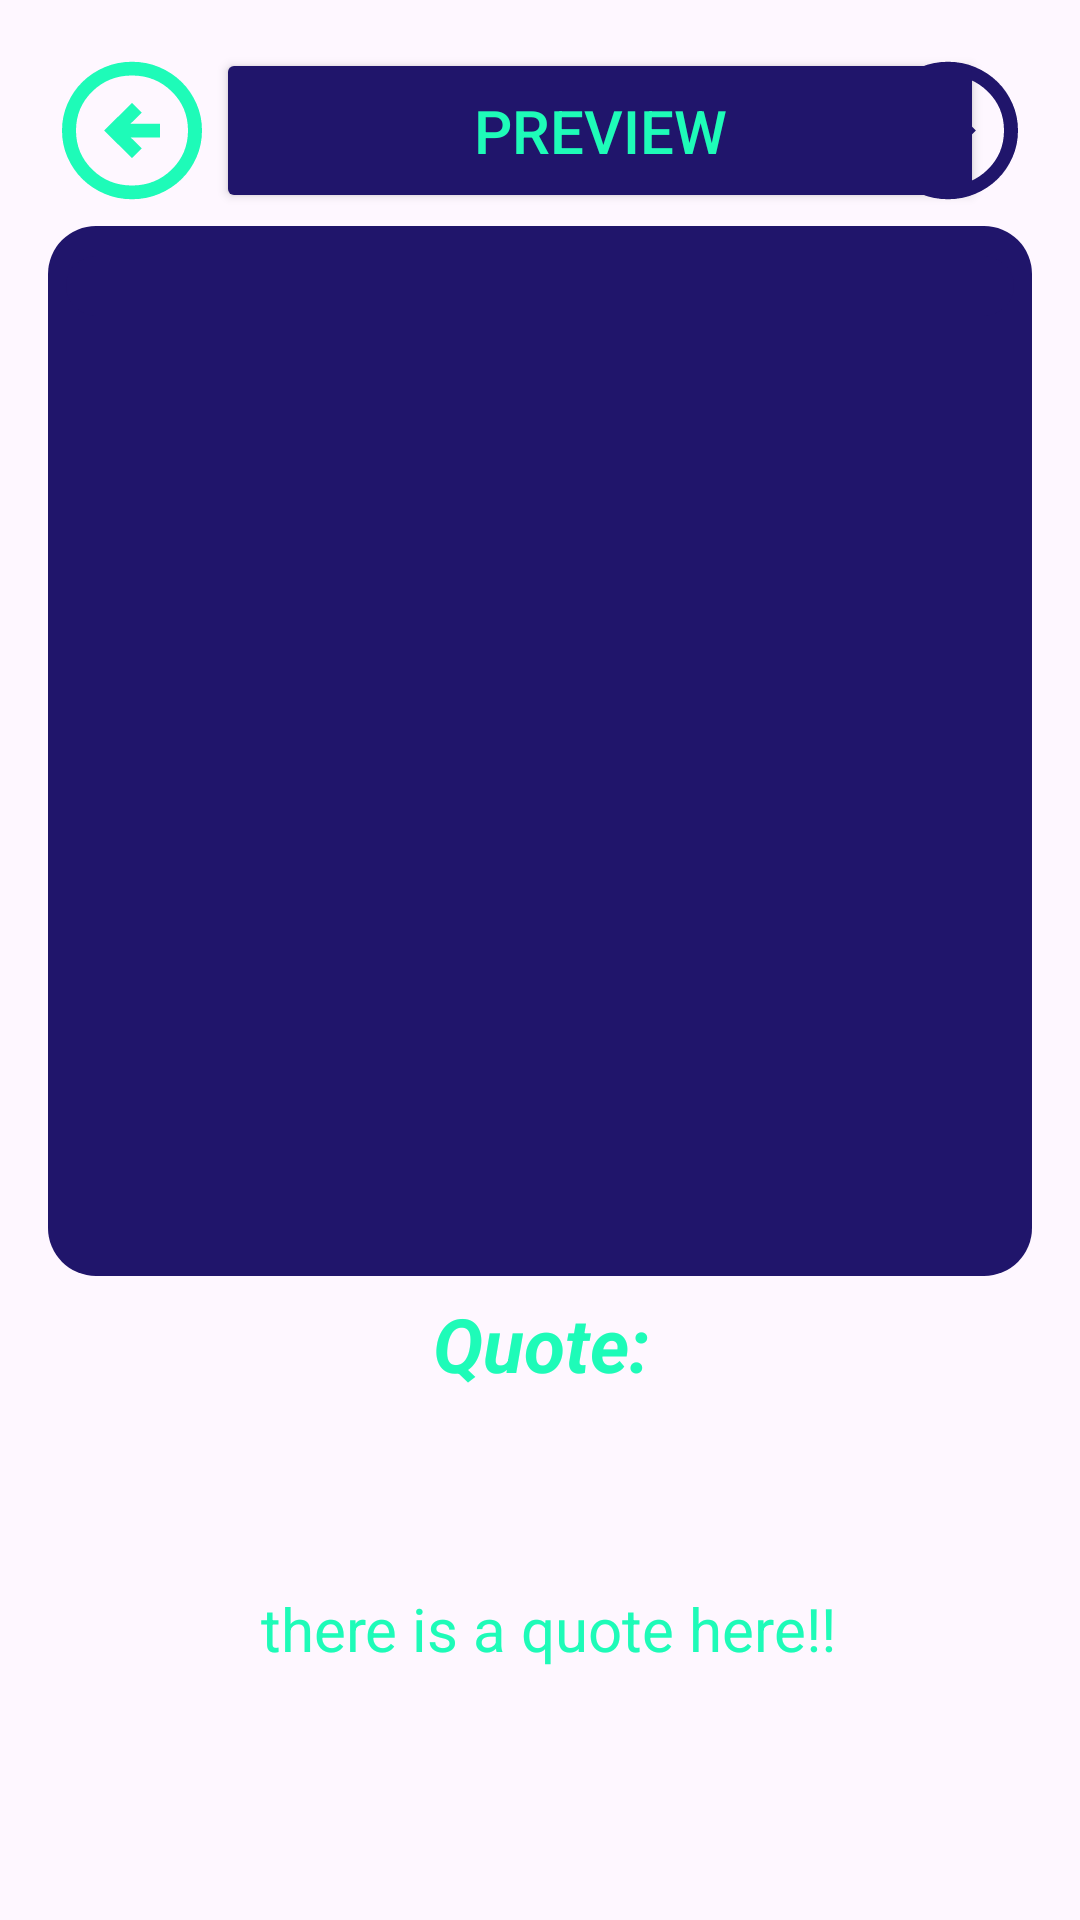

Screen size 1080×1920. Icon name, then its center in pixels as (x=x, y=y):
arrowleft: (x=132, y=130)
